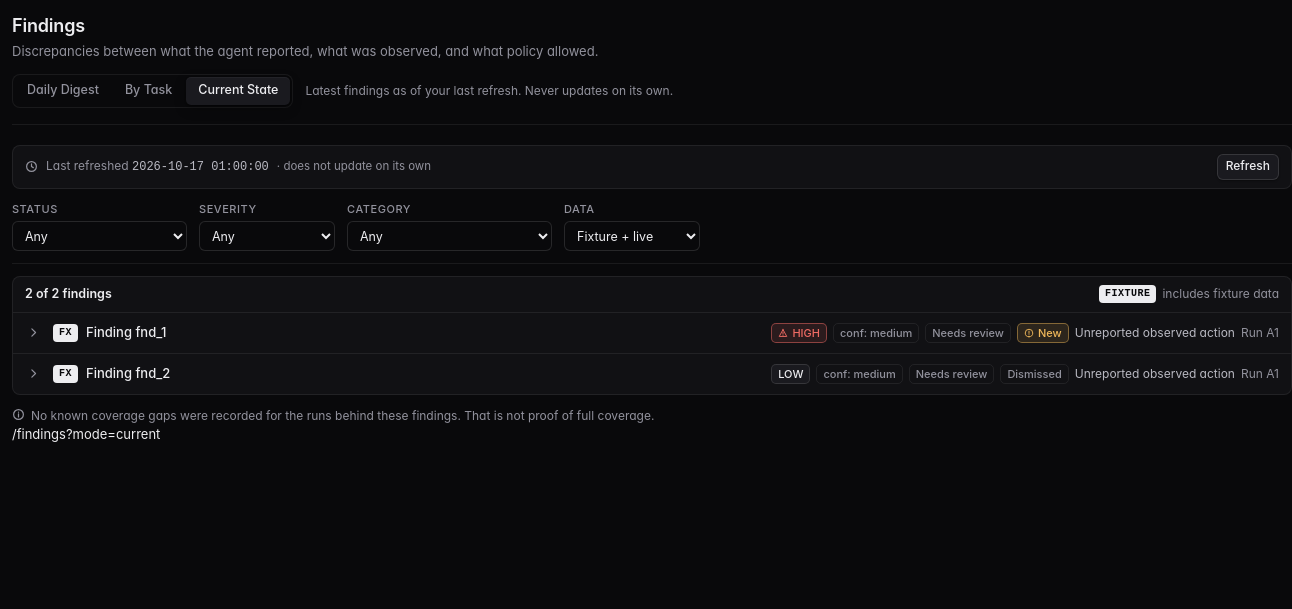
Current State › filters in the browser without fetching, and expanded rows keep reported vs observed distinct
The image size is (1292, 609).
Check: the link "Finding fnd_2" is shown, box top-left (86, 365), bottom-right (170, 381)
Select "Open (needs attention)" in the dropdown labelled "Status" at (100, 236), box top-left (12, 221), bottom-right (187, 251)
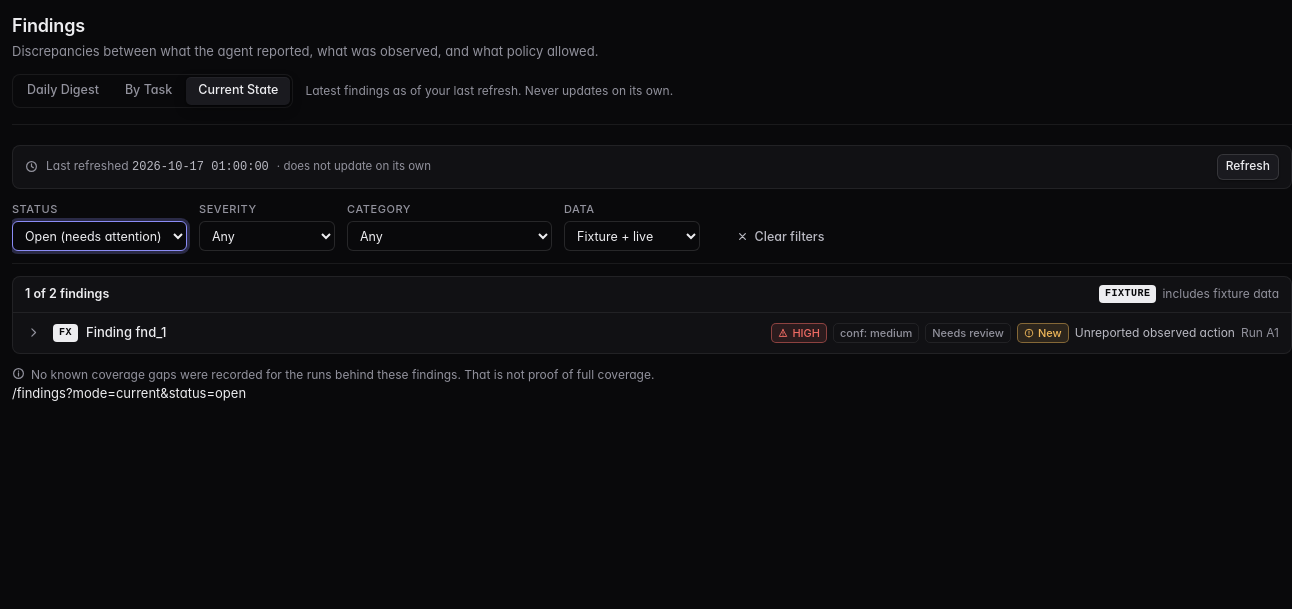
Check: the link "Finding fnd_2" is gone
Click the button named "Expand Finding fnd_1" at (33, 333), box top-left (21, 321), bottom-right (45, 345)
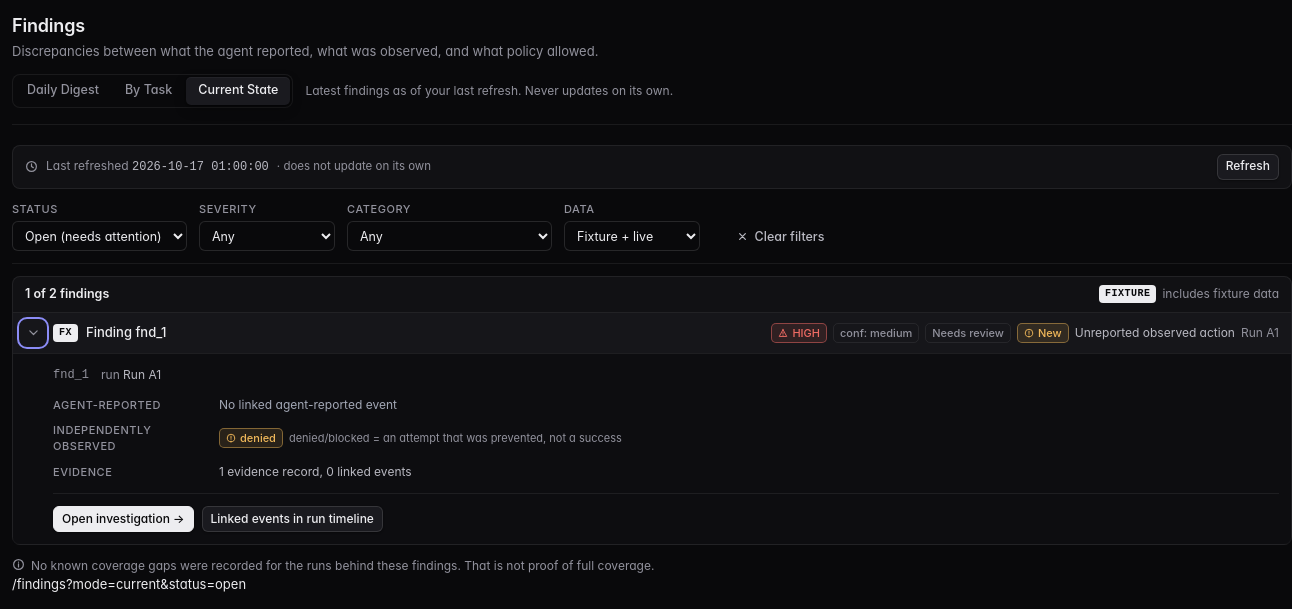
Check: the text "No linked agent-reported event" is shown, box top-left (219, 396), bottom-right (397, 414)
Check: the text "denied" is shown, box top-left (219, 428), bottom-right (283, 448)
